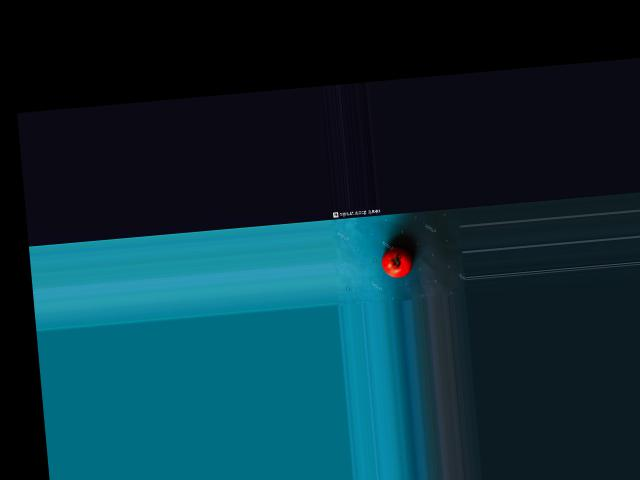tomato: (381, 245, 414, 278)
